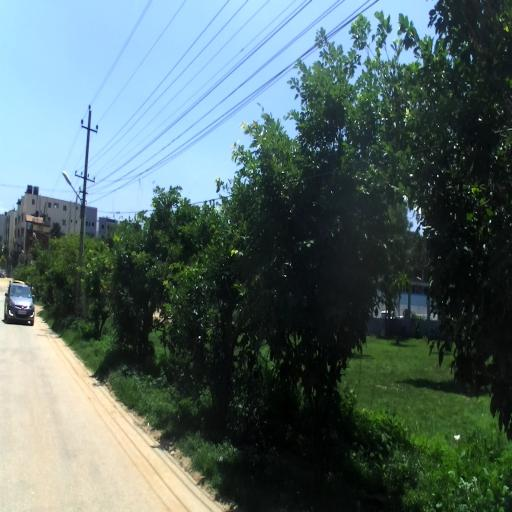street_light_0: (62, 170, 84, 218), (32, 233, 38, 240), (22, 250, 24, 253)
